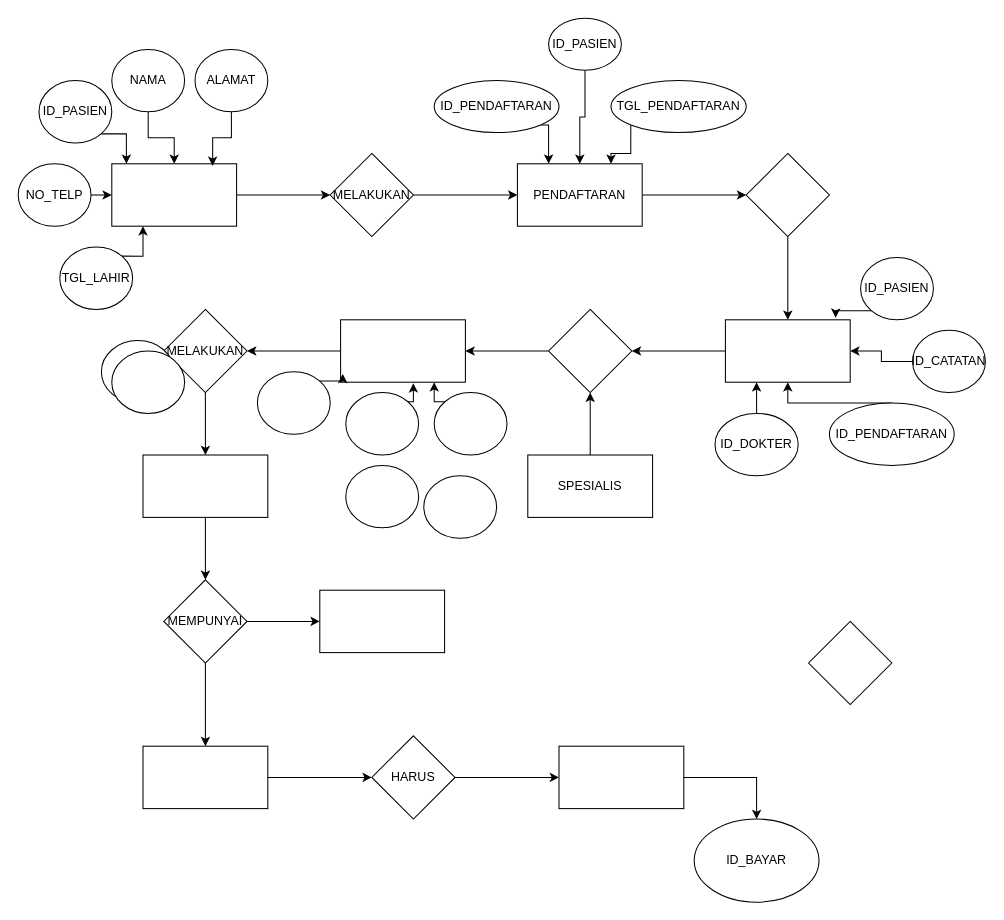
Some shapes in this 1004 by 920 pixel diagram are drawn without their labels. Each missing label, with the box of its shape:
BAYAR: (558, 745, 684, 809)
CATATAN_MEDIS: (724, 319, 850, 382)
DIMILIKI: (548, 308, 632, 393)
DOKTER: (340, 319, 465, 382)
MEMILIKI: (745, 152, 829, 237)
OBAT: (142, 745, 268, 809)
PASIEN: (111, 163, 237, 226)
PEMERIKSAAN: (142, 454, 268, 517)
RESEP: (319, 589, 445, 653)
